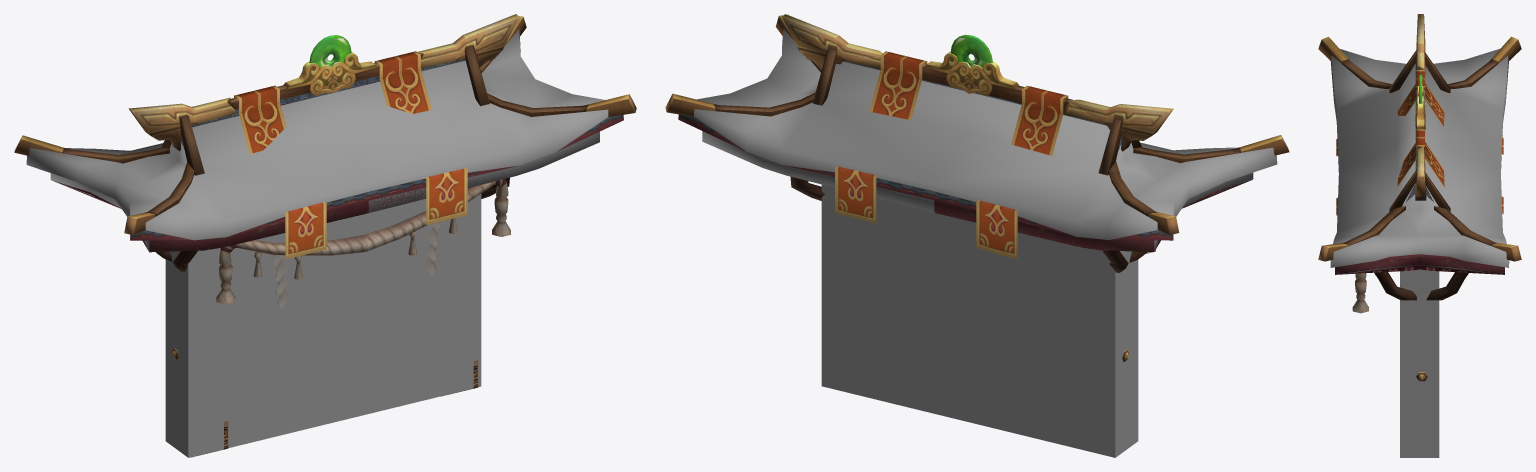
The model's file is Scene_Build_HuanYinFang_GaoShiPai_1.FBX.
The picture shows the model from 3 angles, left to right: view 1: azimuth 30°, elevation 25°; view 2: azimuth 150°, elevation 25°; view 3: azimuth 270°, elevation 25°; orthographic projection. The views are drawn at different scales.
Parts seen in each view (by area): view 1: Scene_Build_HuanYinFang_GaoShiPai_1_Xzm, Scene_Build_HuanYinFang_GaoShiPai_1a, Scene_Build_HuanYinFang_GaoShiPai_1b; view 2: Scene_Build_HuanYinFang_GaoShiPai_1_Xzm, Scene_Build_HuanYinFang_GaoShiPai_1a, Scene_Build_HuanYinFang_GaoShiPai_1b; view 3: Scene_Build_HuanYinFang_GaoShiPai_1_Xzm, Scene_Build_HuanYinFang_GaoShiPai_1a, Scene_Build_HuanYinFang_GaoShiPai_1b.
Part boxes in pixels (box(x1,y1,x2,y2)): Scene_Build_HuanYinFang_GaoShiPai_1_Xzm: box(26, 29, 623, 457); Scene_Build_HuanYinFang_GaoShiPai_1a: box(14, 14, 636, 457); Scene_Build_HuanYinFang_GaoShiPai_1b: box(53, 59, 623, 252); Scene_Build_HuanYinFang_GaoShiPai_1_Xzm: box(678, 29, 1277, 457); Scene_Build_HuanYinFang_GaoShiPai_1a: box(665, 14, 1289, 361); Scene_Build_HuanYinFang_GaoShiPai_1b: box(678, 61, 1251, 251); Scene_Build_HuanYinFang_GaoShiPai_1_Xzm: box(1330, 49, 1509, 457); Scene_Build_HuanYinFang_GaoShiPai_1a: box(1318, 14, 1521, 381); Scene_Build_HuanYinFang_GaoShiPai_1b: box(1330, 61, 1509, 274).
Size of the model in its own units: 826 by 580 by 330.
